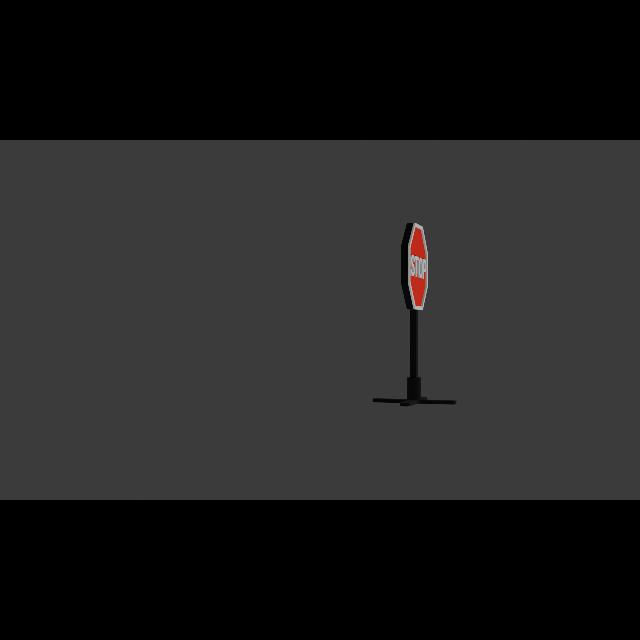sign_stop: (405, 223, 432, 311)
